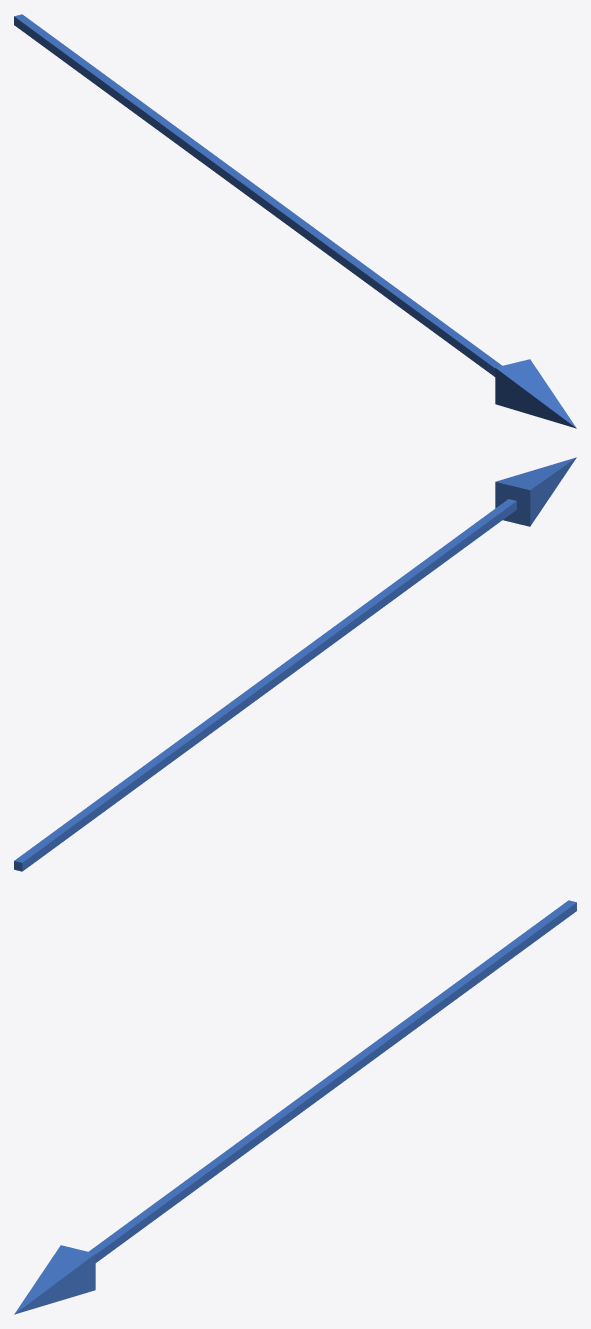
File: arrow.glb
3 views of the same model, one above another, from view 1: azimuth 30°, elevation 25°; view 2: azimuth 150°, elevation 25°; view 3: azimuth 330°, elevation 25° (orthographic).
Visible parts, largest first — view 1: arrow; view 2: arrow; view 3: arrow.
Boxes of the visible parts, <box> form: arrow: <box>14,14,576,428</box>; arrow: <box>14,457,576,871</box>; arrow: <box>14,900,576,1314</box>.
Bounding box in the file's own units: 0.0324 × 0.0324 × 0.8986.
